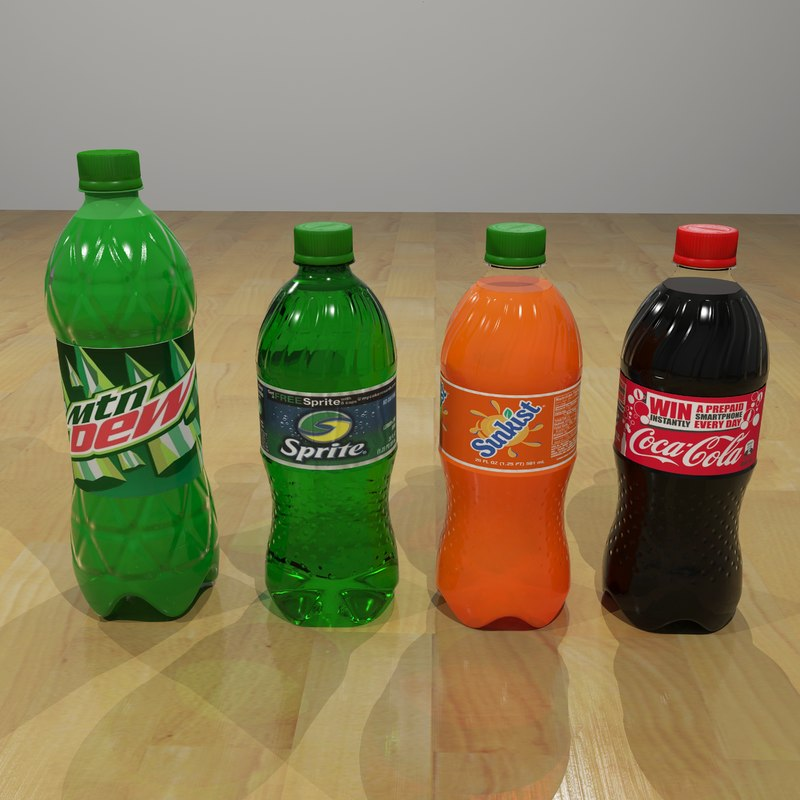plastic_bottle: (41, 136, 228, 631), (596, 207, 774, 645), (250, 211, 411, 642), (428, 206, 586, 638)
